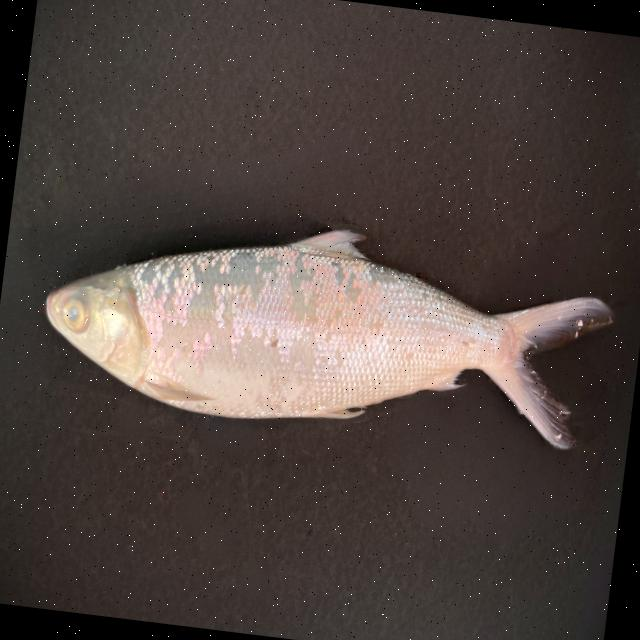860 g: (34, 192, 618, 462)
